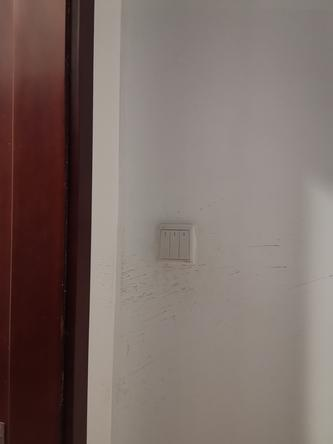switch: (177, 227, 193, 260), (167, 227, 181, 260), (157, 227, 169, 258)
